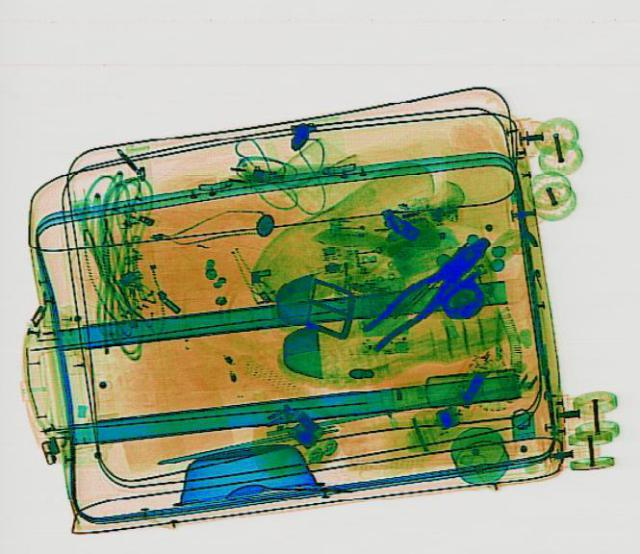Pliers: (345, 228, 505, 354)
